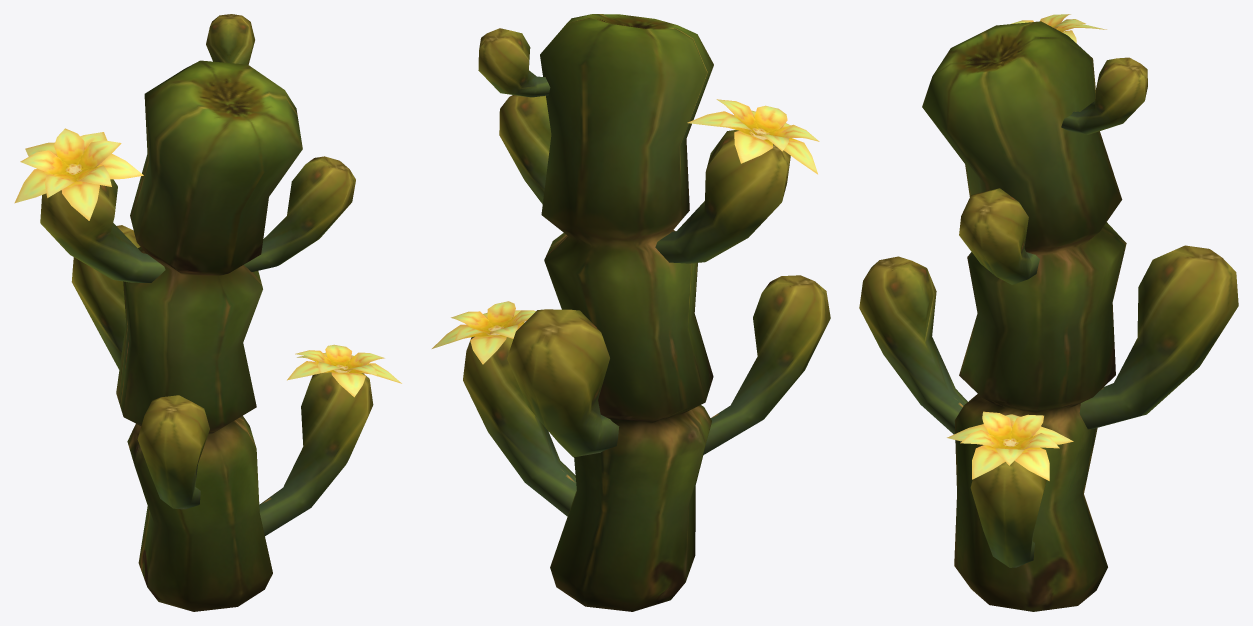
The model's file is FB5_xianrenzhang03.FBX.
3 renders of one model, left to right at view 1: azimuth 30°, elevation 25°; view 2: azimuth 150°, elevation 25°; view 3: azimuth 270°, elevation 25°, orthographic. The views are drawn at different scales.
Parts seen in each view (by area): view 1: FB5_xianrenzhang03; view 2: FB5_xianrenzhang03; view 3: FB5_xianrenzhang03.
Part boxes in pixels (x1,y1,x2,y2): FB5_xianrenzhang03: (14, 14, 401, 611); FB5_xianrenzhang03: (432, 14, 830, 611); FB5_xianrenzhang03: (859, 14, 1238, 611).
Bounding box in the file's own units: 768 × 1089 × 661.
Materials: 1 (1 with a texture image).
